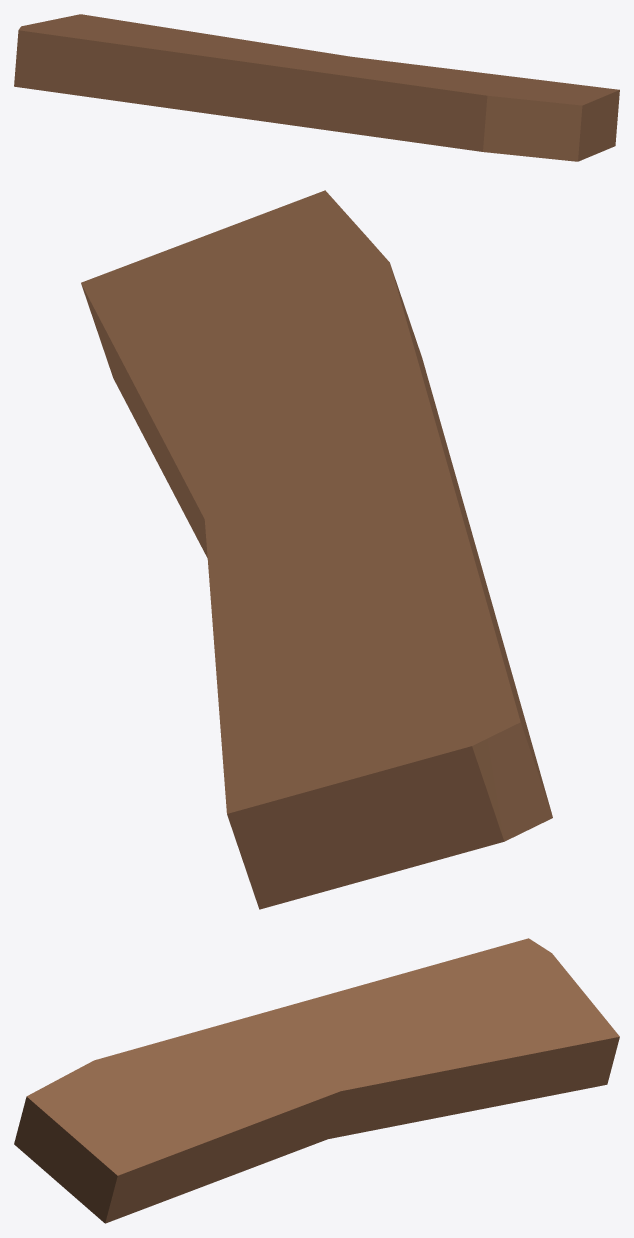
The model's file is WoodCellCube_003_cell_019.fbx.
3 renders of one model, top to bottom at view 1: azimuth 30°, elevation 25°; view 2: azimuth 150°, elevation 25°; view 3: azimuth 270°, elevation 25°, orthographic. The views are drawn at different scales.
Visible parts, largest first — view 1: WoodCellCube_003_cell_019; view 2: WoodCellCube_003_cell_019; view 3: WoodCellCube_003_cell_019.
Part boxes in pixels (x1,y1,x2,y2): WoodCellCube_003_cell_019: (14, 14, 619, 161); WoodCellCube_003_cell_019: (81, 190, 552, 909); WoodCellCube_003_cell_019: (14, 938, 619, 1223).
Bounding box in the file's own units: 2.23 × 0.4671 × 1.92.
1 material, 1 textured.
